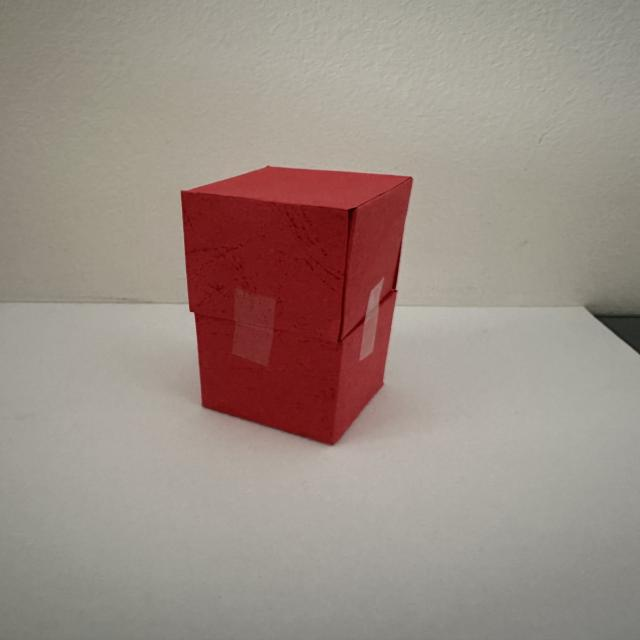red_cube: (167, 159, 429, 457)
